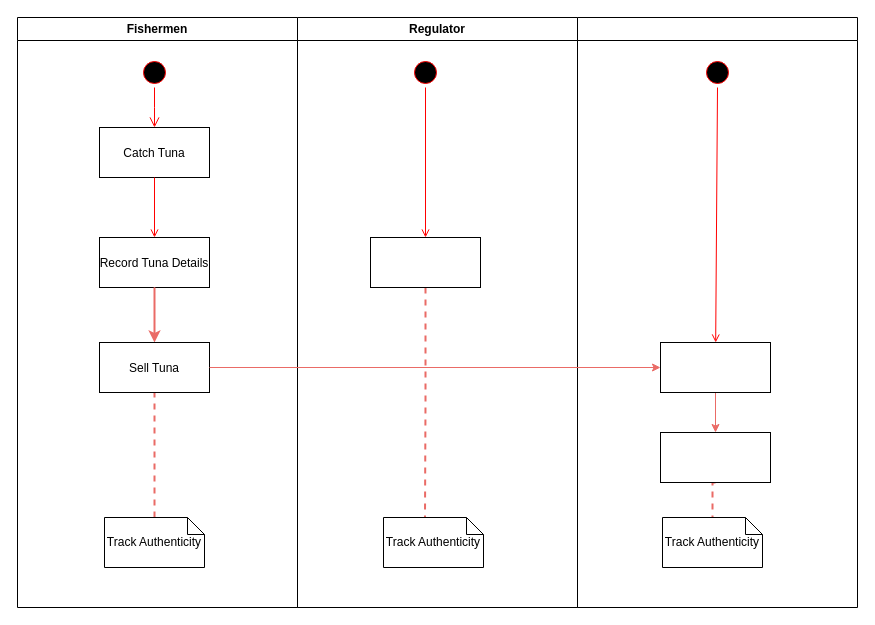
Some shapes in this 875 by 625 pixel diagram are drawn without their labels. The shapes that lost their labels are listed below. From the top down, each one's box as (x1, y1, x2, y2) in pixels, then its label:
(370, 236, 480, 288): Audit Tuna Details
(576, 16, 858, 608): Restaurant
(660, 342, 770, 392): Query Tuna
(660, 432, 770, 482): Buy Tuna
